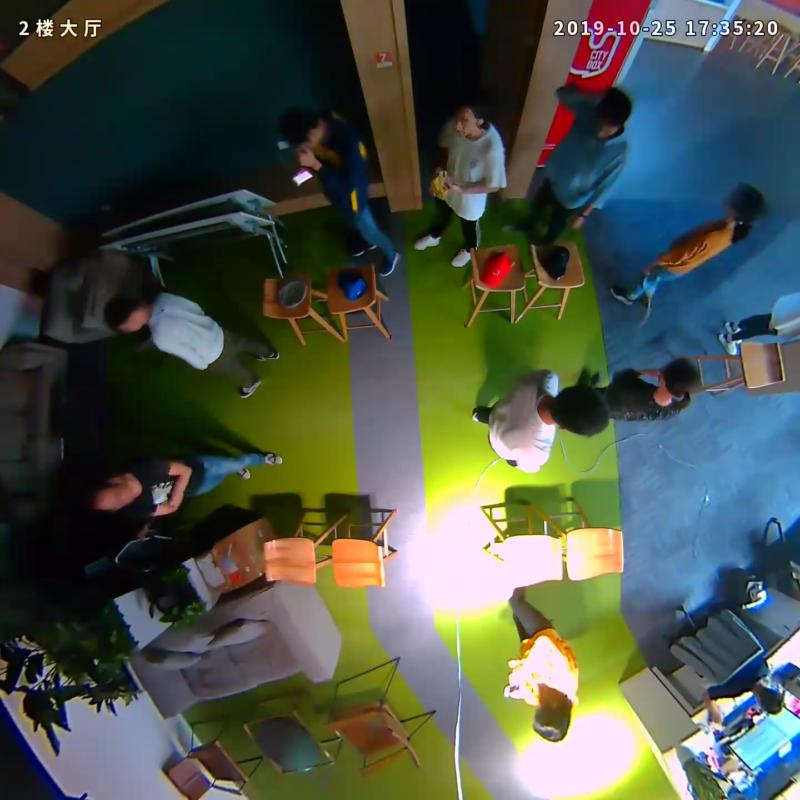head: (553, 385, 610, 436), (81, 471, 141, 513), (595, 85, 634, 143), (281, 107, 324, 155), (533, 692, 572, 744), (722, 183, 766, 227), (102, 293, 148, 335), (453, 93, 494, 139), (659, 357, 700, 399)
